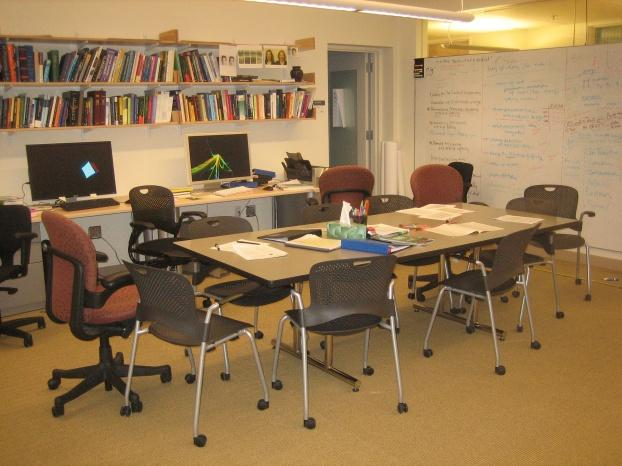AIO PC-Monitor-TV: (24, 138, 116, 200), (182, 129, 251, 184)
Kursi: (122, 258, 269, 448), (270, 253, 408, 429), (37, 208, 144, 418), (420, 221, 541, 376), (126, 184, 194, 265)
Meja: (171, 199, 572, 289)
Whiteboard: (412, 40, 621, 253)
